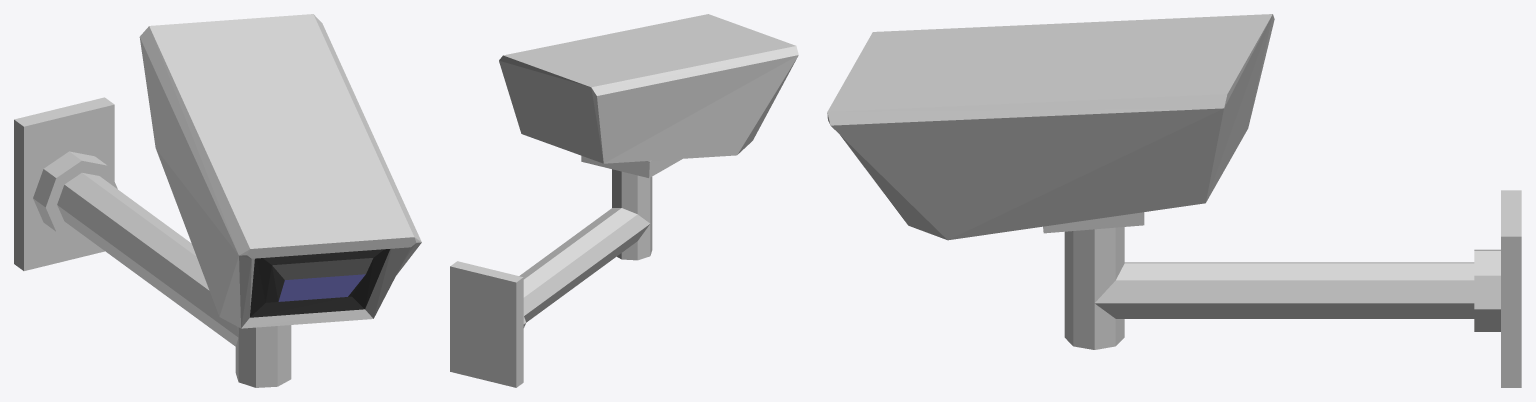
Rendered from 摄像头方.obj.
3 renders of one model, left to right at view 1: azimuth 30°, elevation 25°; view 2: azimuth 150°, elevation 25°; view 3: azimuth 270°, elevation 25°, orthographic. The views are drawn at different scales.
Visible parts, largest first — view 1: 摄像头方; view 2: 摄像头方; view 3: 摄像头方.
Boxes of the visible parts, left/top/right/bottom form: 摄像头方: left=14, top=14, right=421, bottom=387; 摄像头方: left=450, top=14, right=798, bottom=387; 摄像头方: left=827, top=14, right=1521, bottom=387.
Bounding box in the file's own units: 31.74 × 39.37 × 73.74.
